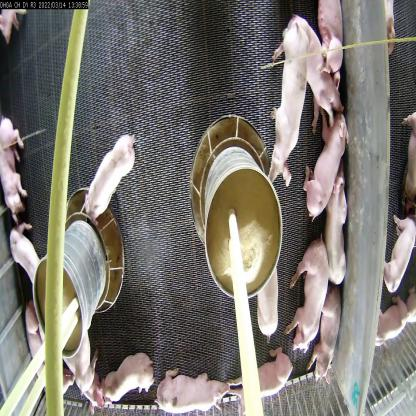Pig: (284, 0, 346, 130), (291, 102, 346, 218), (267, 21, 303, 191), (85, 125, 138, 230), (155, 359, 226, 415), (6, 214, 53, 297), (319, 174, 352, 289), (293, 232, 323, 356), (376, 216, 416, 296), (101, 349, 158, 405), (233, 351, 293, 404), (0, 109, 28, 222), (16, 293, 48, 377), (62, 336, 99, 408), (314, 287, 342, 382), (252, 270, 285, 347), (312, 0, 344, 75)
